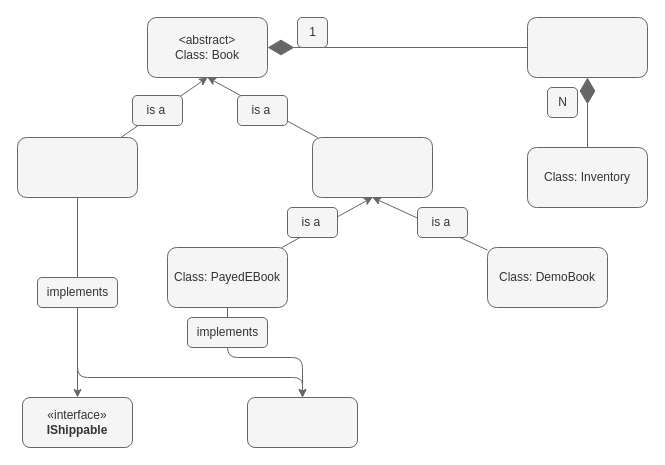
This 665x465 diagram has some shape labels left out. Each missing label, with the centre of its shape:
<abstract> Class: EBook: the point at 372,167
Class: BookStore: the point at 587,47
Class: PaperBook: the point at 77,167
«interface» IPriceable: the point at 302,422
